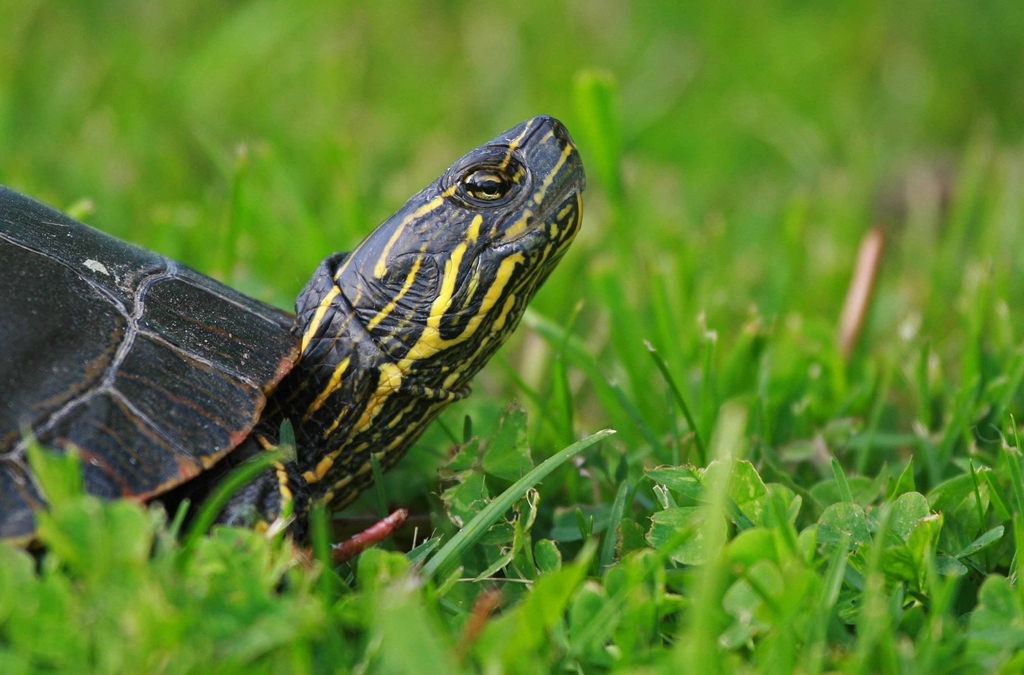Sea turtles: (0, 107, 593, 589)
